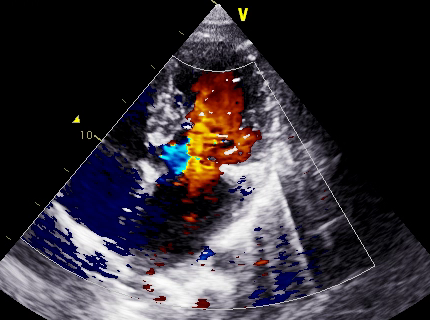MR: (161, 126, 238, 203)
